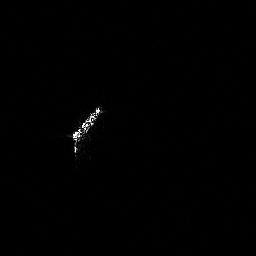ship: (67, 101, 107, 161)
